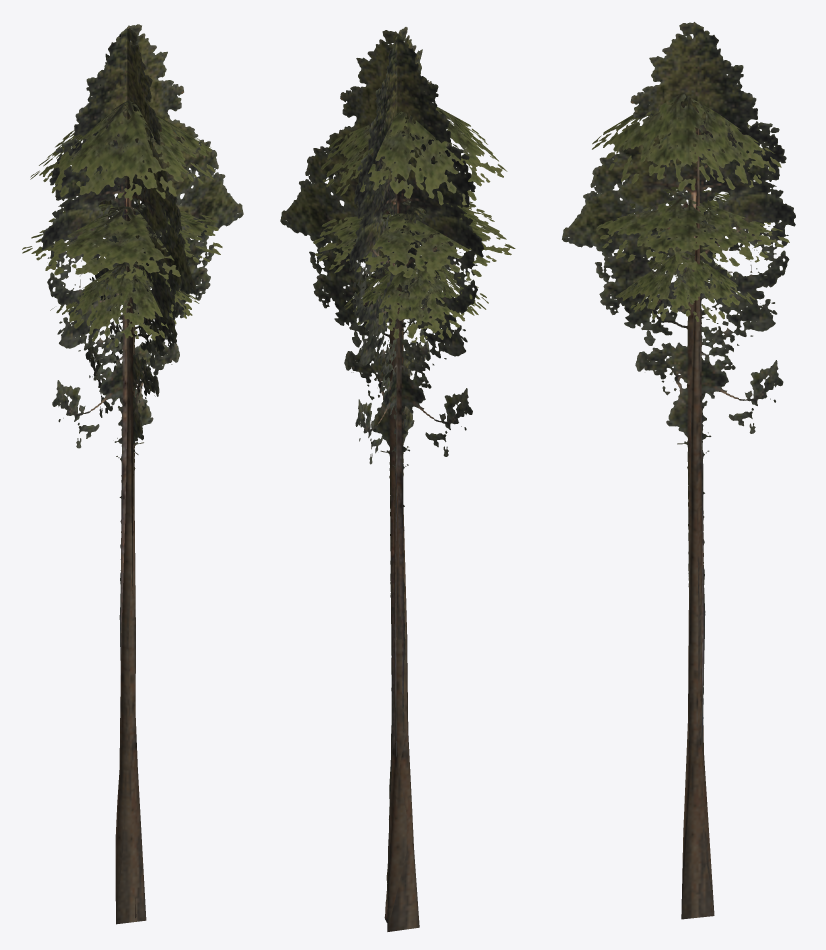
3 views of the same model, side by side, from view 1: azimuth 30°, elevation 25°; view 2: azimuth 150°, elevation 25°; view 3: azimuth 270°, elevation 25° (orthographic).
Parts seen in each view (by area): view 1: Background_Tree_Atlas.005; view 2: Background_Tree_Atlas.005; view 3: Background_Tree_Atlas.005.
Boxes of the visible parts, bbox=[...] form: Background_Tree_Atlas.005: bbox=[22, 24, 243, 924]; Background_Tree_Atlas.005: bbox=[280, 27, 515, 931]; Background_Tree_Atlas.005: bbox=[562, 22, 795, 919].
Size of the model in its own units: 886 by 3327 by 855.
1 material, 1 textured.
